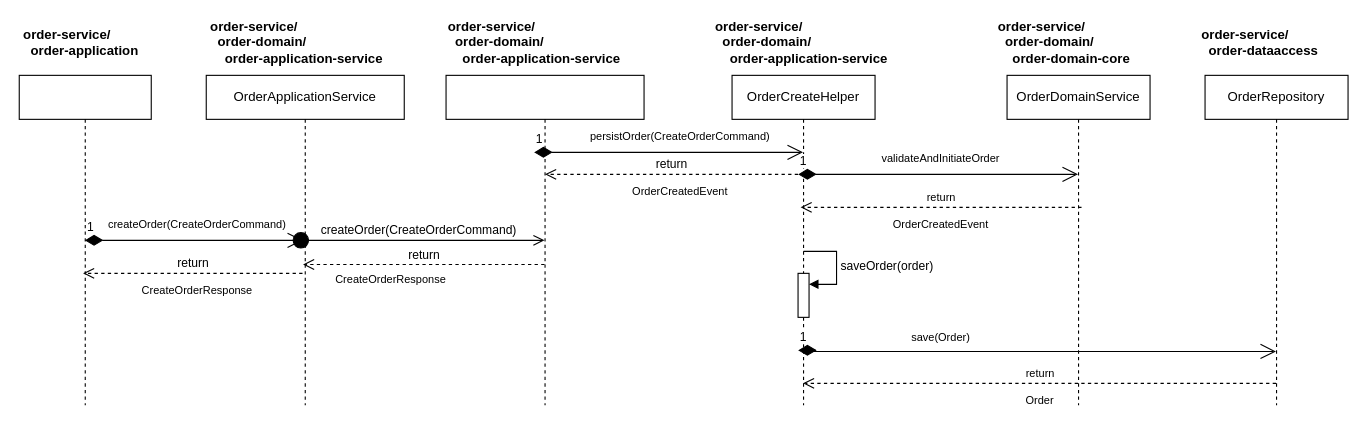
Some shapes in this 1367 by 436 pixel diagram are drawn without their labels. Each missing label, with the box of its shape:
OrderController: (18, 74, 151, 405)
OrderCreateCommandHandler: (445, 74, 644, 405)
